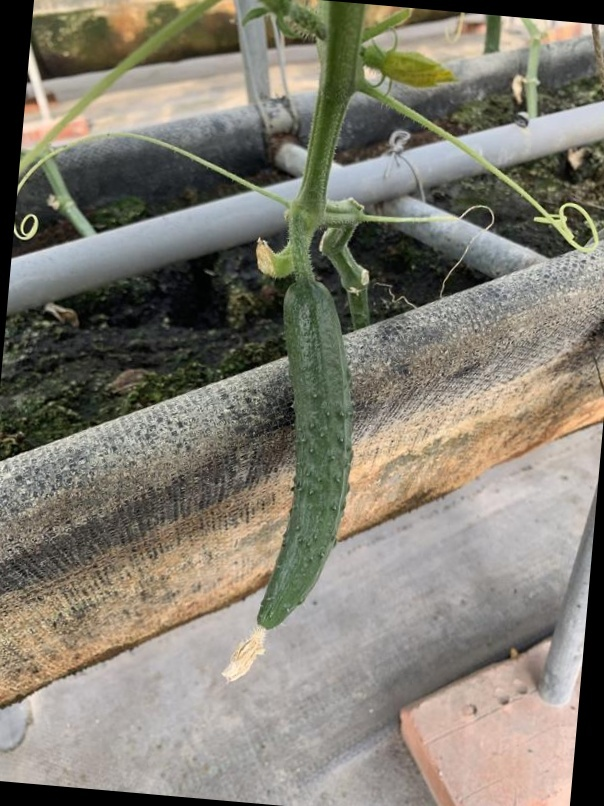growth: (243, 276, 366, 651)
mature: (245, 277, 367, 641)
